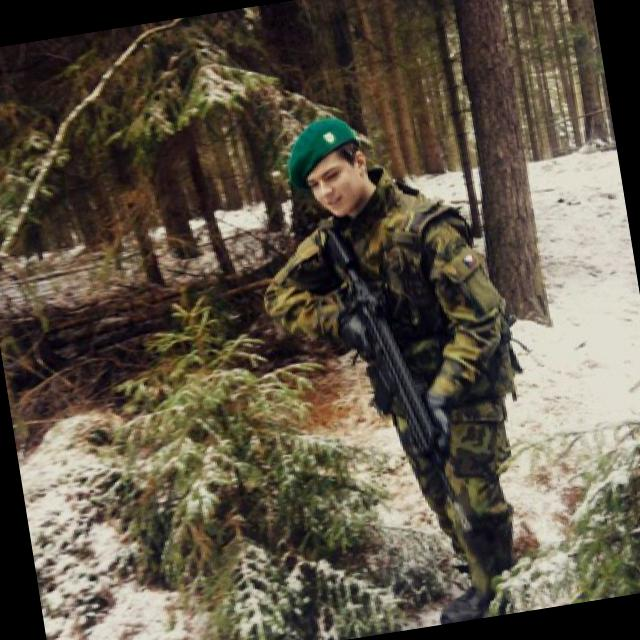long weapon: (297, 193, 483, 552)
